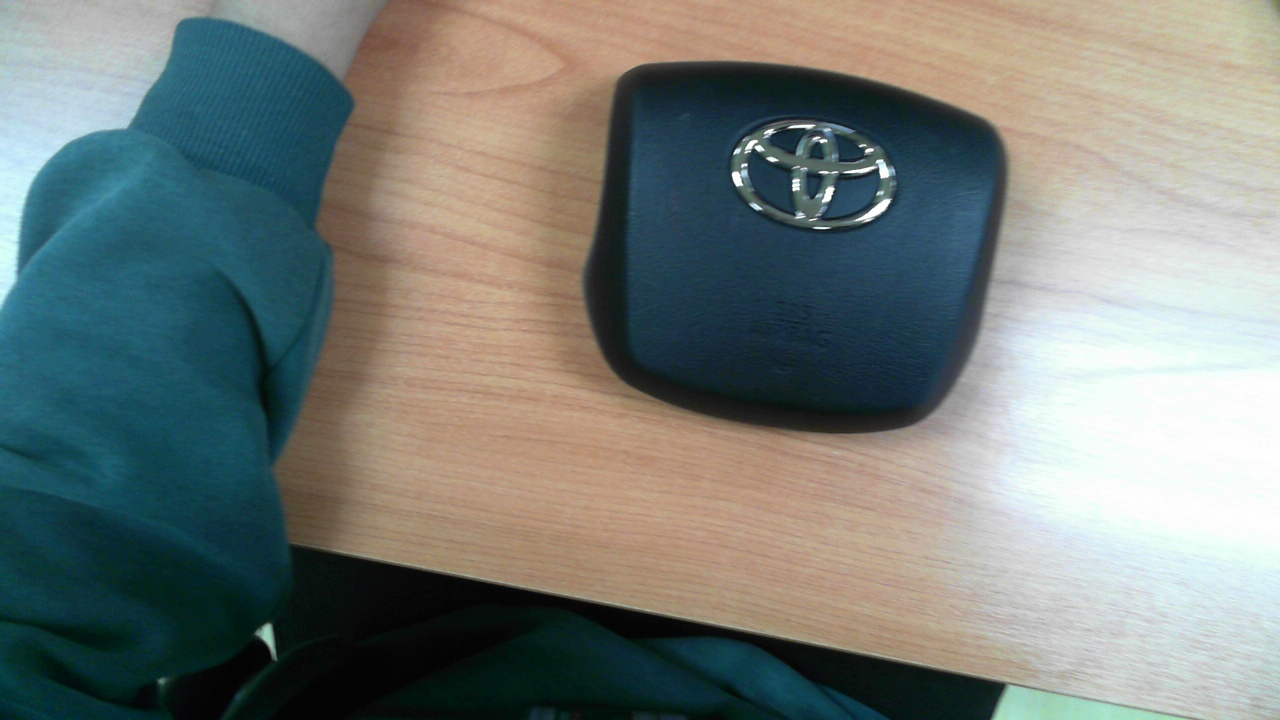Airbag: (582, 61, 1010, 435)
Toyota: (731, 119, 897, 230)
